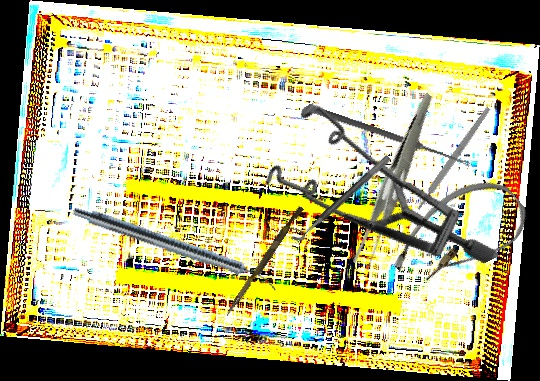Cannula: (381, 162, 538, 311)
Dressing Forceps: (313, 92, 480, 273)
Fixation Ring: (285, 146, 392, 246)
Handpiece: (69, 203, 282, 292)
Pusher: (225, 204, 304, 319)
Scalpel Handle: (415, 106, 492, 211)
Speculum: (243, 59, 500, 335)
Surgical Spoon: (306, 104, 472, 168)
